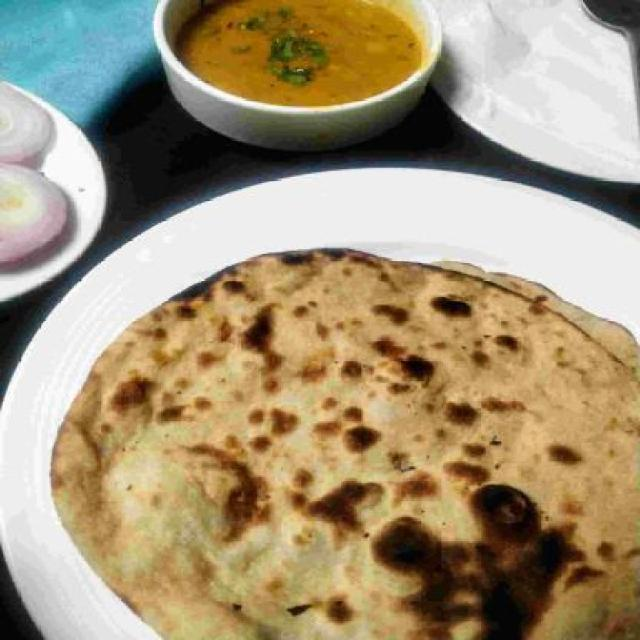chapati: (52, 251, 638, 638)
